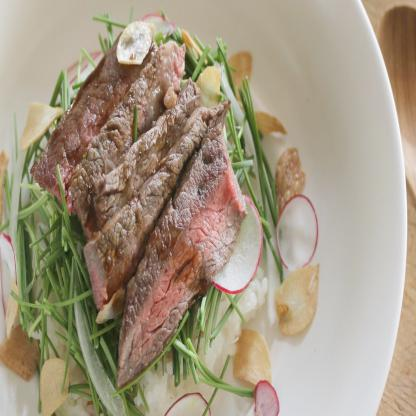Carne: (108, 128, 250, 388), (86, 101, 219, 317), (24, 20, 151, 200), (69, 36, 184, 223), (84, 78, 197, 246)
